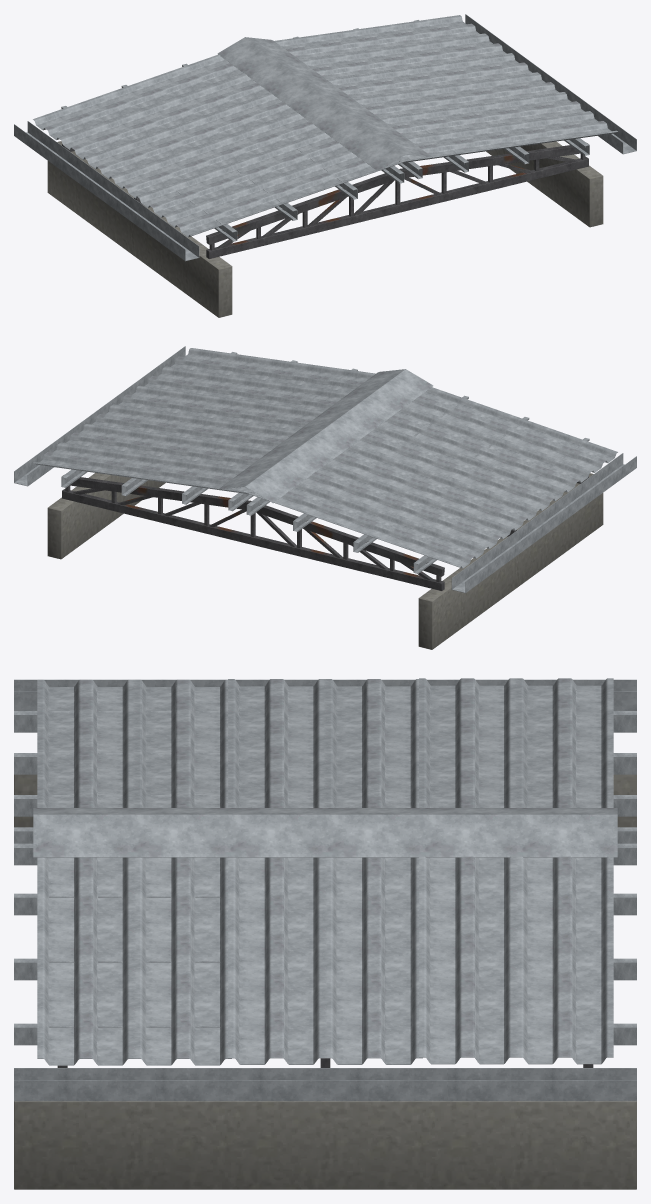
Rendered from KIT-COB-03_lod1.glb.
The picture shows the model from 3 angles, top to bottom: view 1: azimuth 30°, elevation 25°; view 2: azimuth 150°, elevation 25°; view 3: azimuth 270°, elevation 25°; orthographic projection. The views are drawn at different scales.
Visible parts, largest first — view 1: KIT-COB-03_p10, KIT-COB-03_p8, KIT-COB-03_p9, KIT-COB-03_p11, KIT-COB-03_p14, KIT-COB-03_p13, KIT-COB-03_p12, KIT-COB-03_apoio-1, KIT-COB-03_calha-1, KIT-COB-03_banzo_inf0, KIT-COB-03_apoio1, KIT-COB-03_calha1 (+2 smaller); view 2: KIT-COB-03_p10, KIT-COB-03_p9, KIT-COB-03_p8, KIT-COB-03_p13, KIT-COB-03_p14, KIT-COB-03_p12, KIT-COB-03_p11, KIT-COB-03_apoio-1, KIT-COB-03_calha-1, KIT-COB-03_banzo_inf2, KIT-COB-03_apoio1, KIT-COB-03_calha1 (+2 smaller); view 3: KIT-COB-03_apoio1, KIT-COB-03_p13, KIT-COB-03_p12, KIT-COB-03_p11, KIT-COB-03_p14, KIT-COB-03_p10, KIT-COB-03_p9, KIT-COB-03_p8, KIT-COB-03_calha1, KIT-COB-03_calha-1, KIT-COB-03_apoio-1, KIT-COB-03_p5 (+6 smaller).
Part boxes in pixels (<box>): KIT-COB-03_p10: <box>33,54,271,159</box>; KIT-COB-03_p8: <box>138,132,407,237</box>; KIT-COB-03_p9: <box>85,94,324,198</box>; KIT-COB-03_p11: <box>381,93,617,162</box>; KIT-COB-03_p14: <box>217,37,433,171</box>; KIT-COB-03_p13: <box>274,15,512,80</box>; KIT-COB-03_p12: <box>328,54,565,118</box>; KIT-COB-03_apoio-1: <box>47,141,232,317</box>; KIT-COB-03_calha-1: <box>14,121,199,261</box>; KIT-COB-03_banzo_inf0: <box>206,157,588,258</box>; KIT-COB-03_apoio1: <box>486,141,603,227</box>; KIT-COB-03_calha1: <box>465,14,636,154</box>; KIT-COB-03_p10: <box>243,463,512,568</box>; KIT-COB-03_p9: <box>328,425,565,530</box>; KIT-COB-03_p8: <box>380,387,617,492</box>; KIT-COB-03_p13: <box>33,424,271,494</box>; KIT-COB-03_p14: <box>217,369,433,503</box>; KIT-COB-03_p12: <box>88,386,323,449</box>; KIT-COB-03_p11: <box>141,348,375,411</box>; KIT-COB-03_apoio-1: <box>418,473,603,649</box>; KIT-COB-03_calha-1: <box>451,453,636,593</box>; KIT-COB-03_banzo_inf2: <box>62,489,444,590</box>; KIT-COB-03_apoio1: <box>47,473,165,559</box>; KIT-COB-03_calha1: <box>14,346,185,486</box>; KIT-COB-03_apoio1: <box>14,1101,636,1189</box>; KIT-COB-03_p13: <box>419,856,613,1064</box>; KIT-COB-03_p12: <box>228,857,422,1064</box>; KIT-COB-03_p11: <box>37,857,231,1065</box>; KIT-COB-03_p14: <box>33,808,617,857</box>; KIT-COB-03_p10: <box>419,678,613,807</box>; KIT-COB-03_p9: <box>228,679,418,807</box>; KIT-COB-03_p8: <box>37,679,227,807</box>; KIT-COB-03_calha1: <box>14,1068,636,1101</box>; KIT-COB-03_calha-1: <box>14,679,636,710</box>; KIT-COB-03_apoio-1: <box>14,774,636,827</box>; KIT-COB-03_p5: <box>14,893,636,915</box>.
Size of the model in its own units: 4.87 by 1.16 by 3.2.
Materials: 3 (3 with a texture image).
